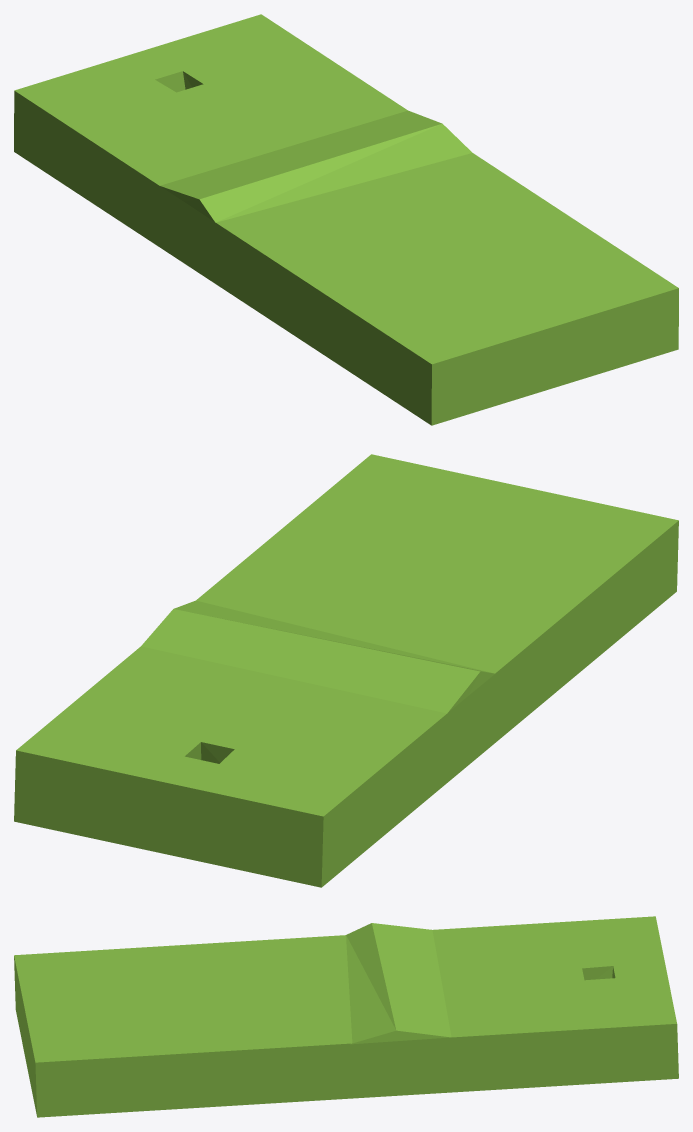
3 views of the same model, one above another, from view 1: azimuth 30°, elevation 25°; view 2: azimuth 150°, elevation 25°; view 3: azimuth 270°, elevation 25° (orthographic). The views are drawn at different scales.
Visible parts, largest first — view 1: mesh_1480825659; view 2: mesh_1480825659; view 3: mesh_1480825659.
Part boxes in pixels (x1=…): mesh_1480825659: x1=14, y1=14, x2=678, y2=425; mesh_1480825659: x1=14, y1=454, x2=678, y2=887; mesh_1480825659: x1=14, y1=916, x2=678, y2=1117.
Bounding box in the file's own units: 66.63 × 17.92 × 140.
